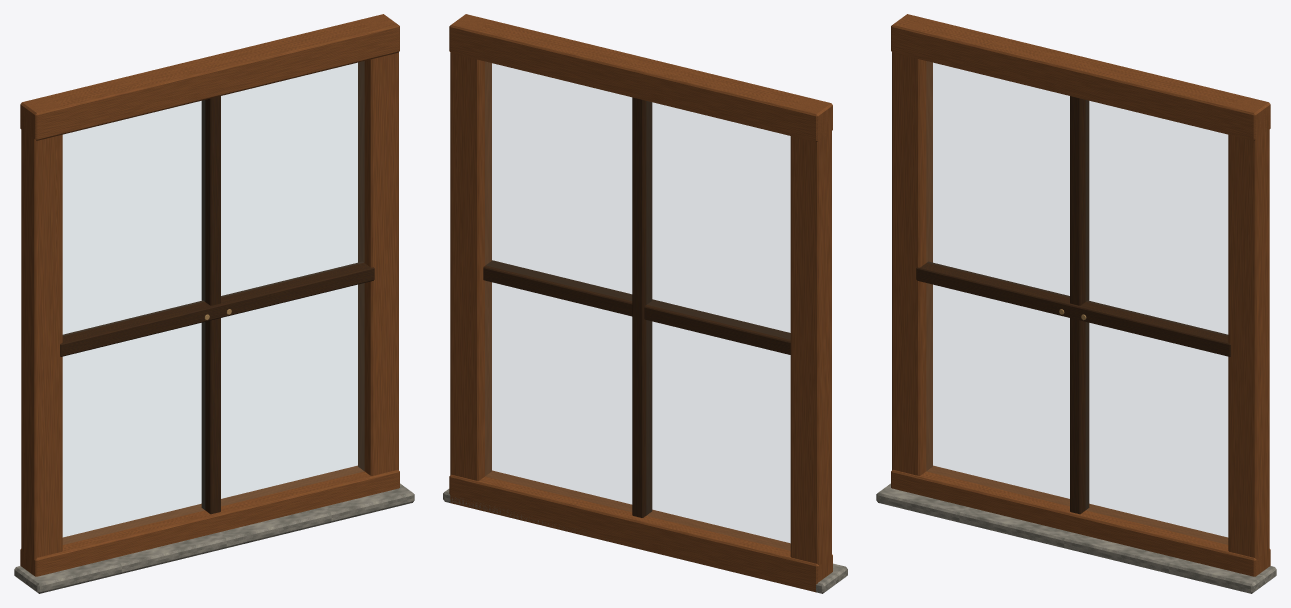
File: window.glb
3 renders of one model, left to right at view 1: azimuth 30°, elevation 25°; view 2: azimuth 150°, elevation 25°; view 3: azimuth 330°, elevation 25°, orthographic.
Parts seen in each view (by area): view 1: window; view 2: window; view 3: window.
Part boxes in pixels (x1,y1,x2,y2): window: [14, 14, 414, 593]; window: [443, 14, 847, 593]; window: [876, 14, 1276, 593].
Size of the model in its own units: 1.16 by 1.39 by 0.13.
5 materials, 3 textured.
